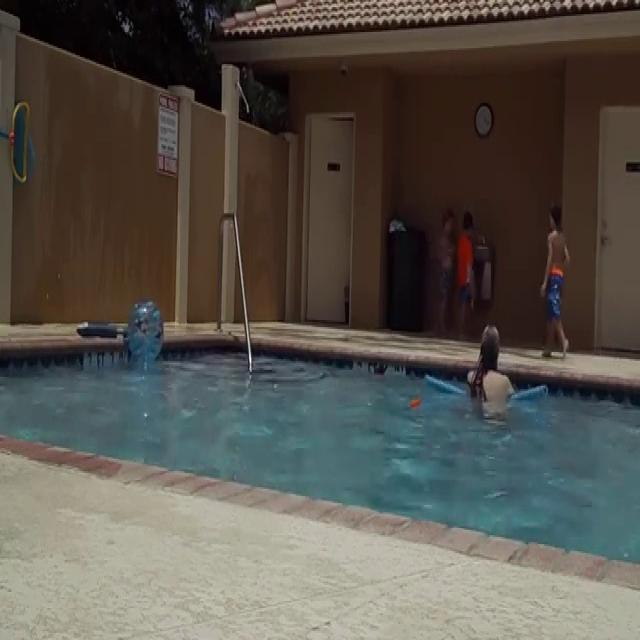adult: (468, 321, 514, 418)
child: (540, 200, 570, 352), (436, 208, 456, 321), (456, 210, 472, 342)
